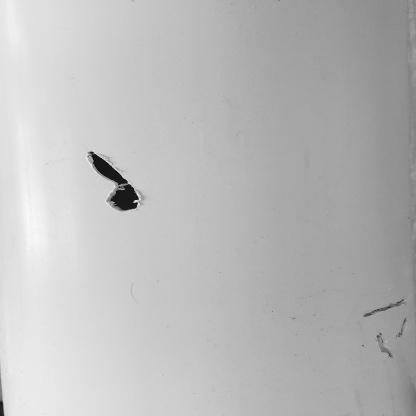fengxi: (362, 300, 409, 321), (374, 333, 394, 358), (396, 318, 412, 337)
kongdong: (86, 151, 146, 213)
